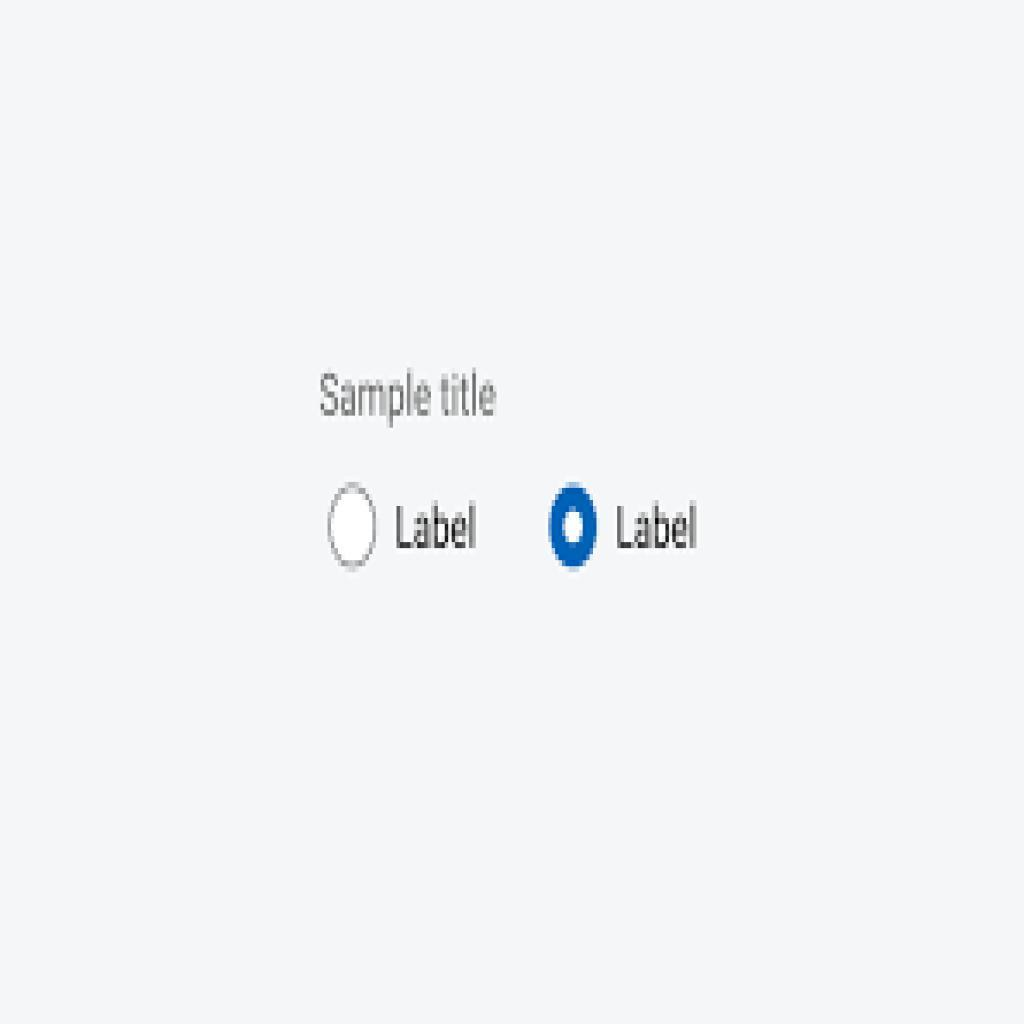radio: (326, 478, 388, 576), (547, 481, 602, 577)
